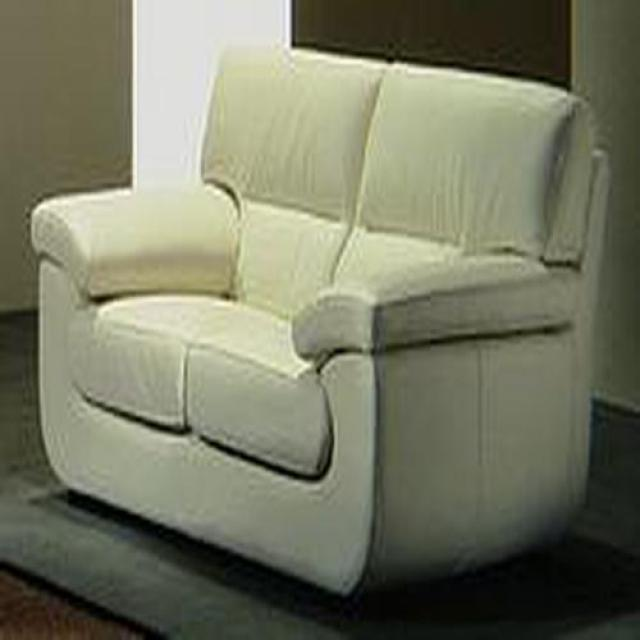sofa: (28, 37, 611, 603)
